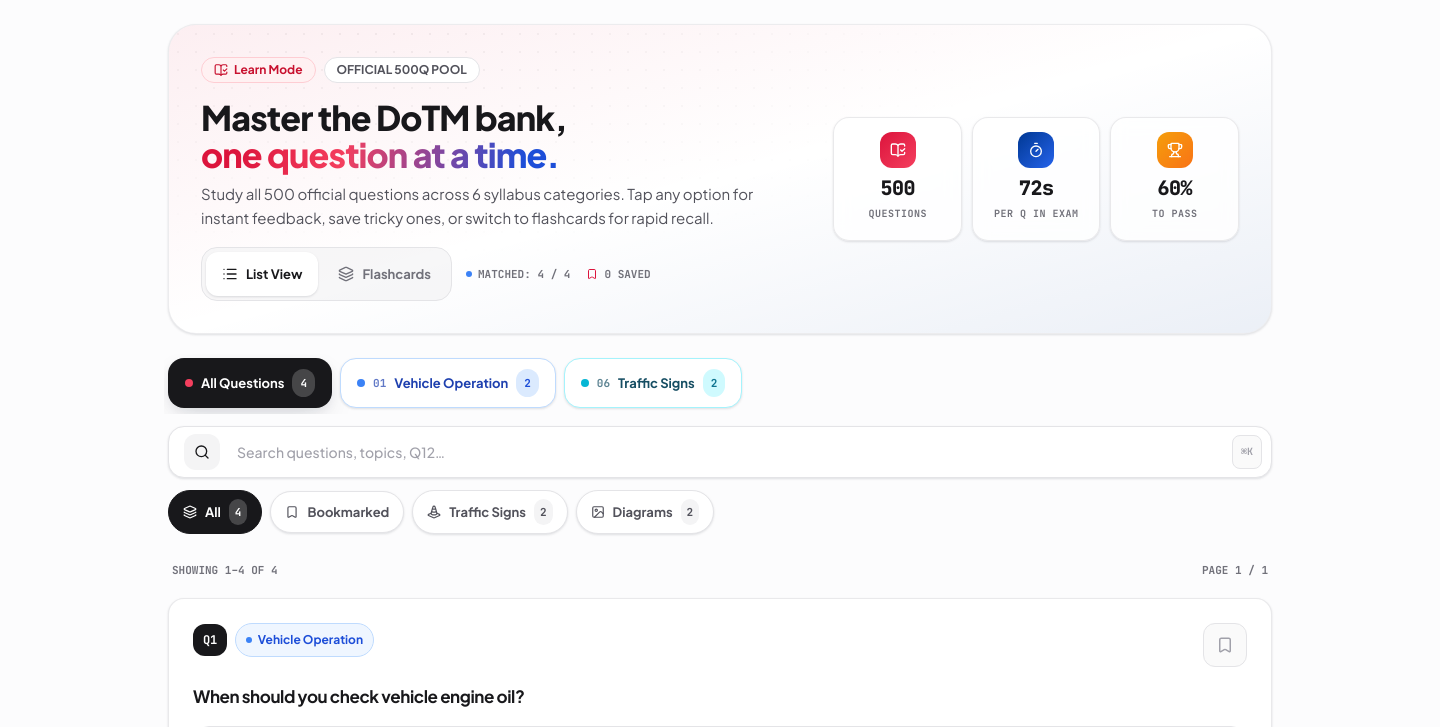
LearnView Integration › searches questions by Question ID (e.g. Q400)
The width and height of the screenshot is (1440, 727).
Type "Q400" into the search field with placeholder "Search questions, topics, Q12…".
click(720, 452); type("Q400")  # box top-left (168, 426), bottom-right (1272, 478)
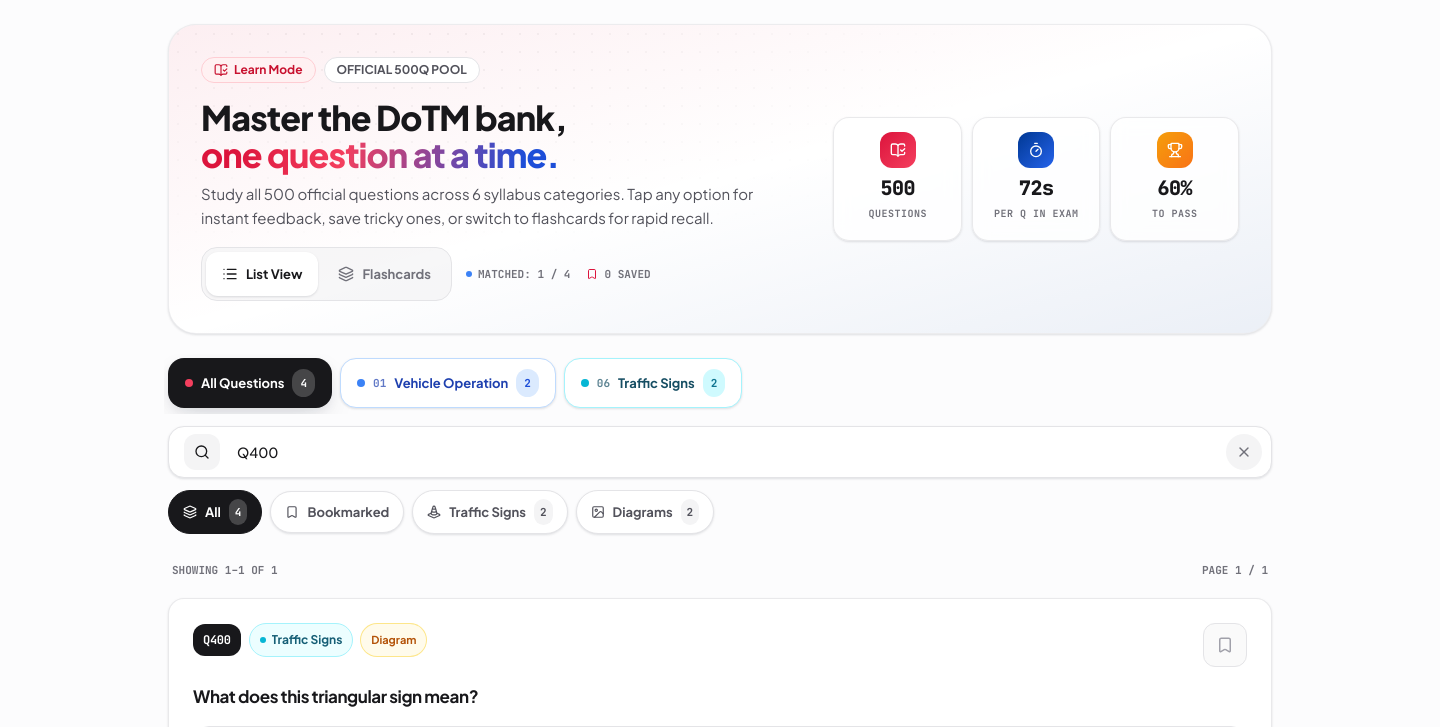
Check: the heading "What does this triangular sign mean?" is shown, box top-left (193, 684), bottom-right (478, 706)
Check: the heading "When should you check vehicle engine oil?" is gone
